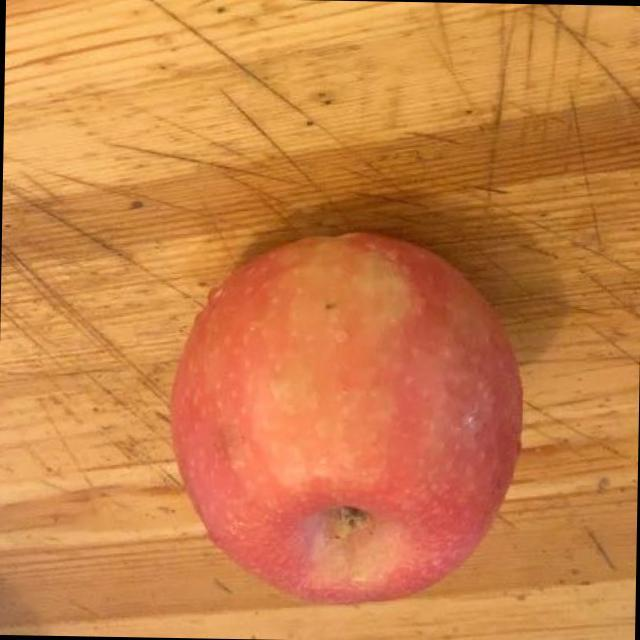Apple: (161, 216, 534, 618)
